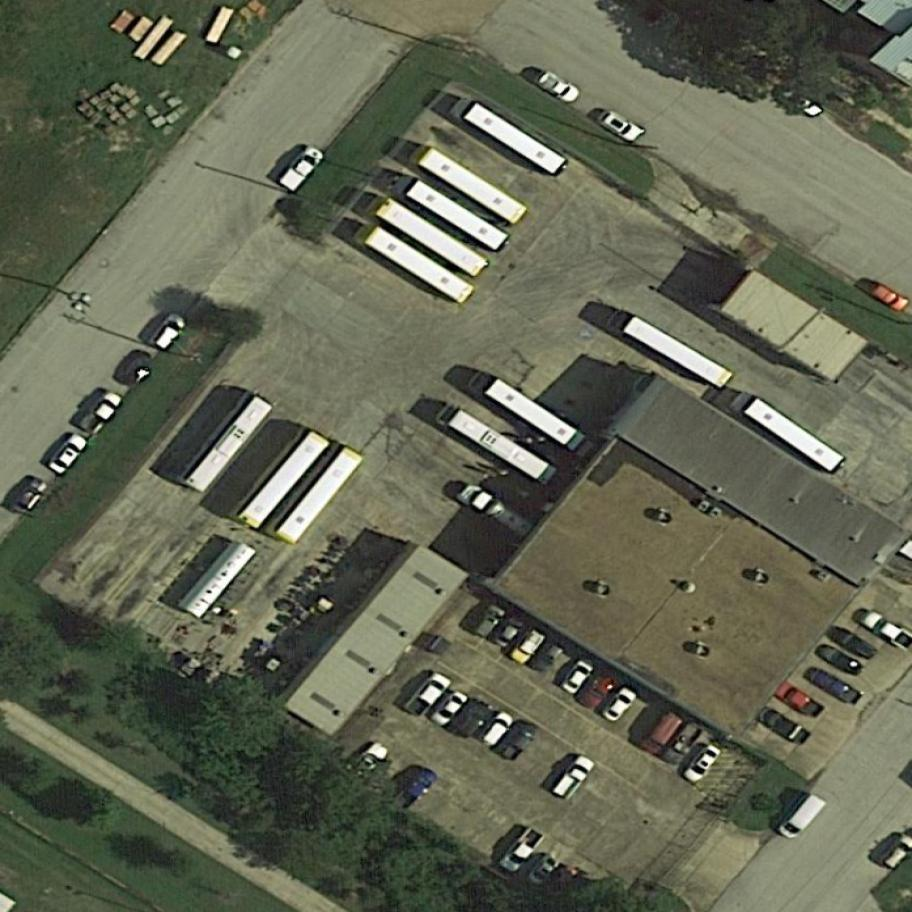large-vehicle: (463, 364, 599, 467), (432, 398, 563, 489), (177, 386, 277, 500), (236, 426, 334, 534), (272, 442, 366, 550), (374, 195, 489, 281), (417, 143, 530, 228), (364, 224, 476, 308), (622, 312, 735, 392), (462, 99, 570, 181), (453, 475, 561, 555), (403, 177, 510, 254), (745, 394, 844, 474)
small-vehicle: (775, 788, 830, 845), (495, 821, 548, 879), (389, 762, 441, 816), (659, 716, 710, 771), (402, 668, 453, 722), (550, 751, 599, 807), (805, 665, 865, 710), (639, 705, 688, 760), (277, 144, 327, 196), (856, 603, 911, 650), (756, 706, 813, 750), (574, 664, 623, 715), (492, 717, 540, 769), (77, 387, 124, 439), (775, 679, 827, 726), (826, 621, 881, 665), (447, 695, 496, 744), (775, 78, 828, 123), (530, 64, 584, 108), (43, 430, 89, 481), (680, 738, 726, 788), (145, 308, 190, 357), (597, 105, 646, 147), (506, 623, 550, 669), (815, 641, 865, 681), (428, 685, 471, 731), (8, 474, 51, 520), (475, 708, 518, 753), (351, 737, 394, 781), (468, 601, 510, 645), (529, 634, 570, 679), (599, 682, 640, 726), (489, 611, 529, 654), (115, 349, 154, 392), (560, 654, 598, 697), (525, 850, 564, 890), (869, 280, 911, 314)
